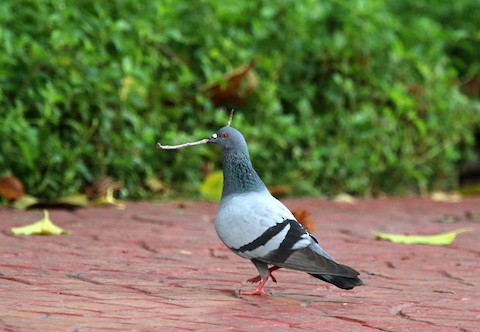pigeon: (207, 123, 367, 299)
